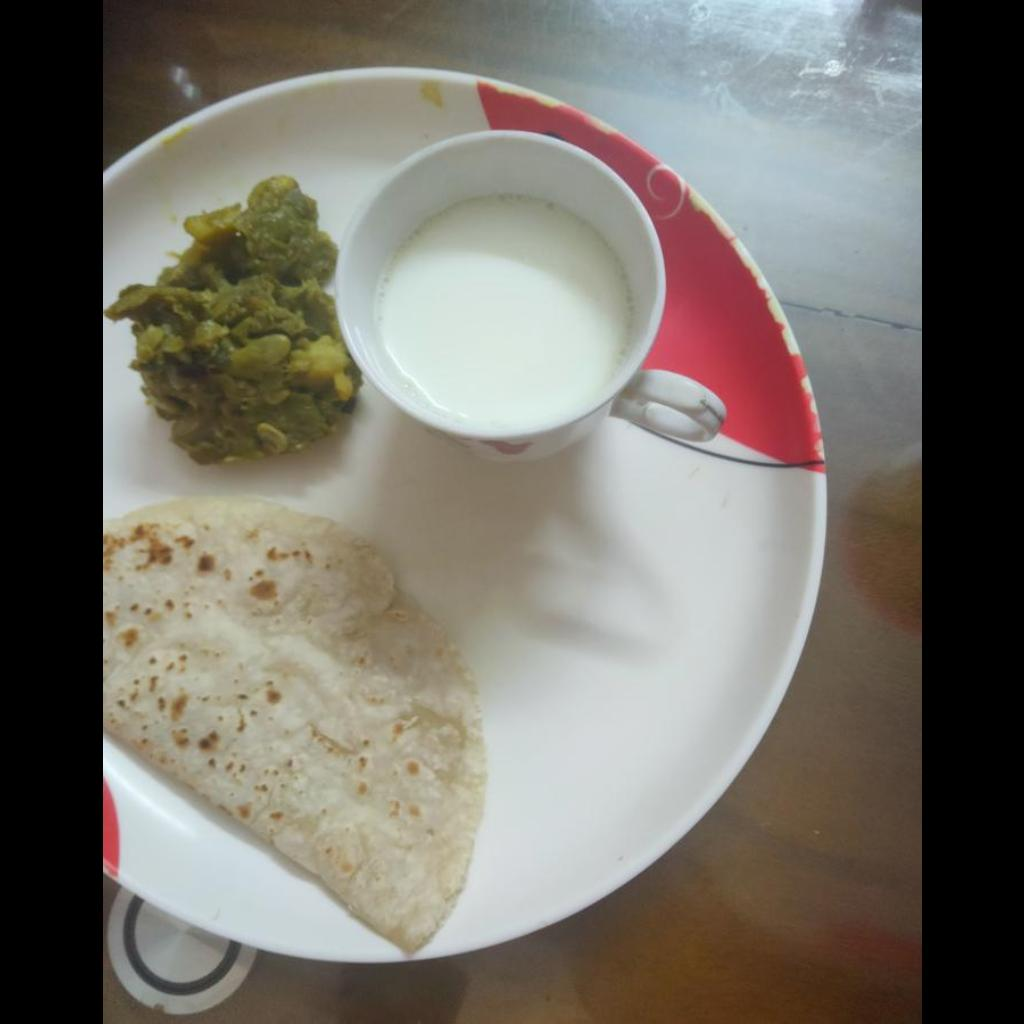milk: (382, 200, 620, 418)
ruti: (102, 498, 486, 961)
vorta: (107, 177, 357, 463)
